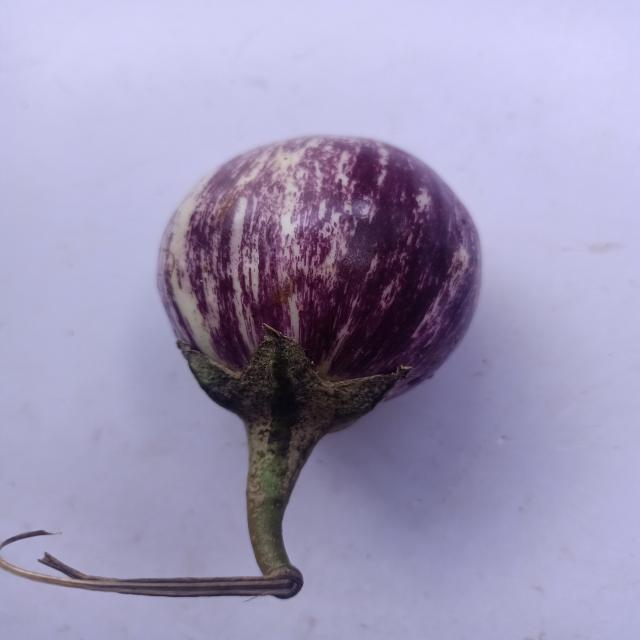Eggplant: (1, 127, 492, 608)
